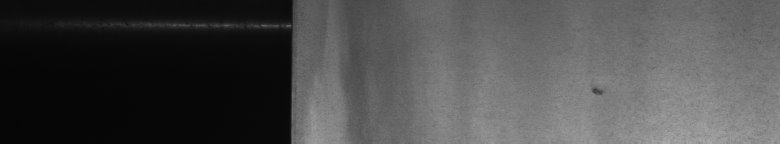fi: (588, 80, 605, 100)
